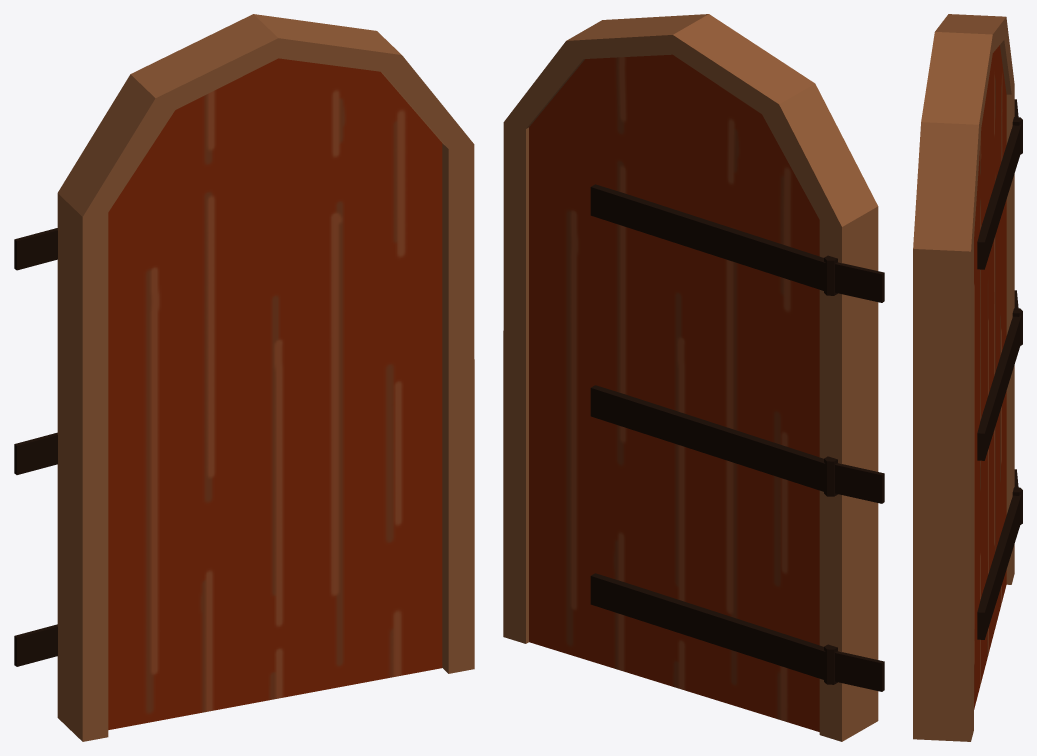
File: Door_Open_mdl.fbx
The picture shows the model from 3 angles, left to right: view 1: azimuth 30°, elevation 25°; view 2: azimuth 150°, elevation 25°; view 3: azimuth 270°, elevation 25°; orthographic projection. The views are drawn at different scales.
Visible parts, largest first — view 1: Door_Open_mdl; view 2: Door_Open_mdl; view 3: Door_Open_mdl.
Boxes of the visible parts, bbox=[...] form: Door_Open_mdl: bbox=[14, 14, 474, 741]; Door_Open_mdl: bbox=[503, 14, 884, 741]; Door_Open_mdl: bbox=[913, 14, 1022, 741].
Bounding box in the file's own units: 2.27 × 3.53 × 0.564.
